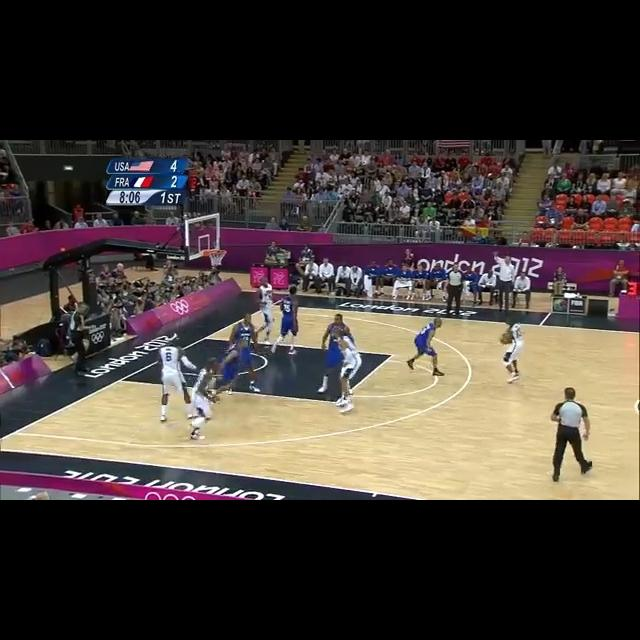basketball: (499, 334, 512, 345)
hoop: (202, 246, 227, 270)
person: (407, 318, 446, 376), (494, 255, 516, 308), (445, 263, 465, 313), (93, 214, 110, 227)
